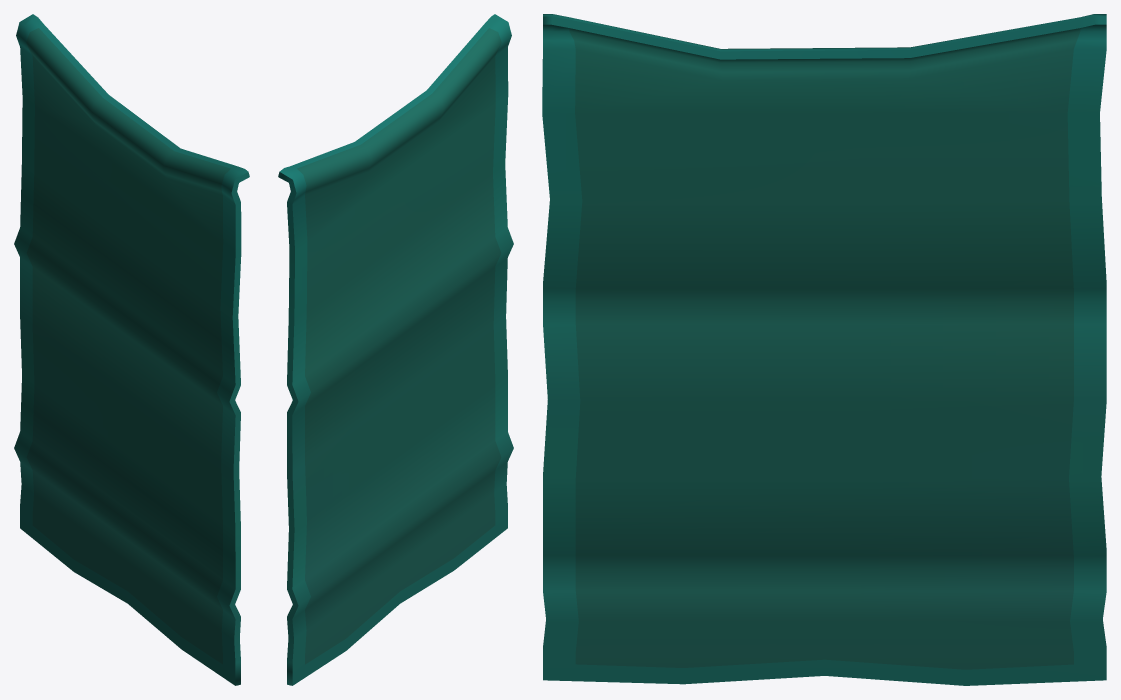
The model's file is Scaffold_sheet_2_6.fbx.
3 renders of one model, left to right at view 1: azimuth 30°, elevation 25°; view 2: azimuth 150°, elevation 25°; view 3: azimuth 270°, elevation 25°, orthographic. The views are drawn at different scales.
Parts seen in each view (by area): view 1: Scaffold_sheet_2_6; view 2: Scaffold_sheet_2_6; view 3: Scaffold_sheet_2_6.
Boxes of the visible parts, box(x1,y1,x2,y2) form: Scaffold_sheet_2_6: box(14, 14, 249, 685); Scaffold_sheet_2_6: box(278, 14, 513, 685); Scaffold_sheet_2_6: box(542, 14, 1106, 685).
Size of the model in its own units: 10.1 by 242 by 184.
